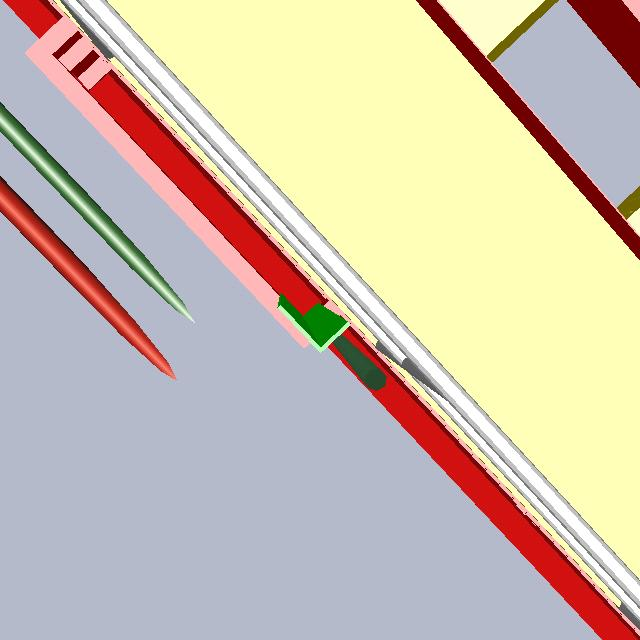Poste: (313, 329, 396, 397)
Soporte: (263, 282, 355, 360)
